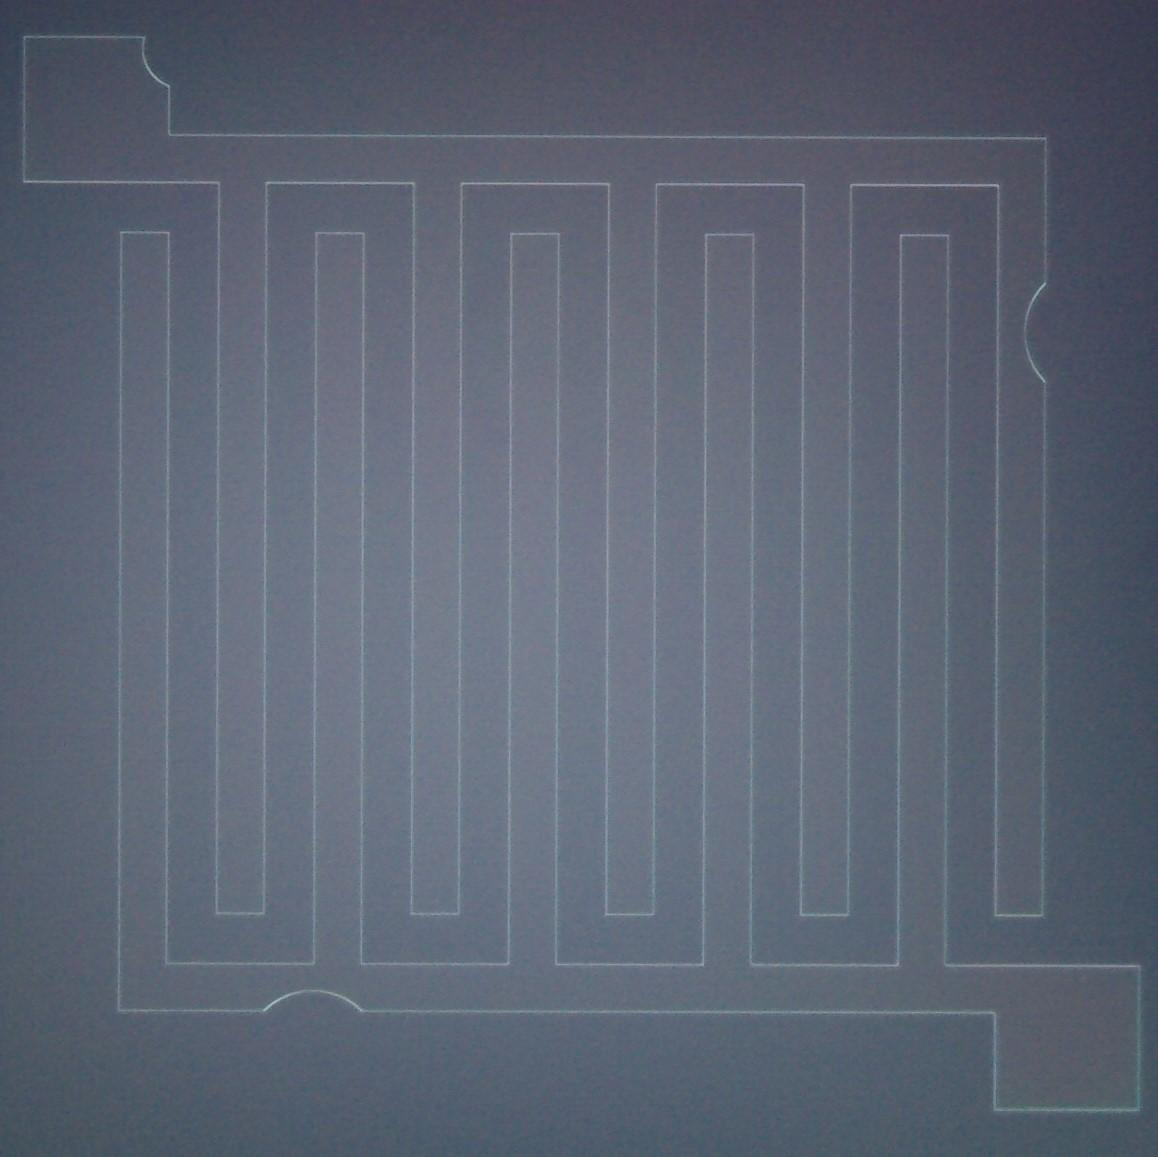cut: (254, 977, 372, 1044), (1017, 268, 1073, 400), (124, 25, 183, 104)
